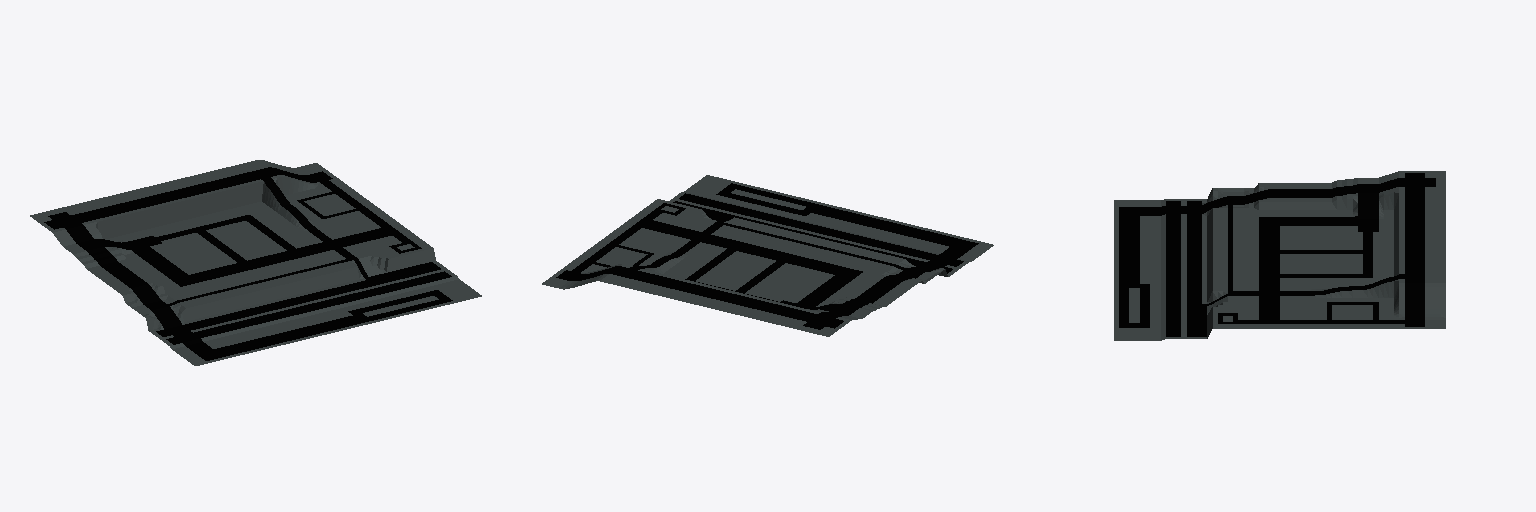
File: checkeredMap.obj
3 renders of one model, left to right at view 1: azimuth 30°, elevation 25°; view 2: azimuth 150°, elevation 25°; view 3: azimuth 270°, elevation 25°, orthographic.
Visible parts, largest first — view 1: Plane; view 2: Plane; view 3: Plane.
Boxes of the visible parts, x1,y1,x2,y2 form: Plane: [30, 160, 481, 365]; Plane: [542, 175, 993, 336]; Plane: [1114, 171, 1445, 340].
Bounding box in the file's own units: 40 × 3.89 × 40.